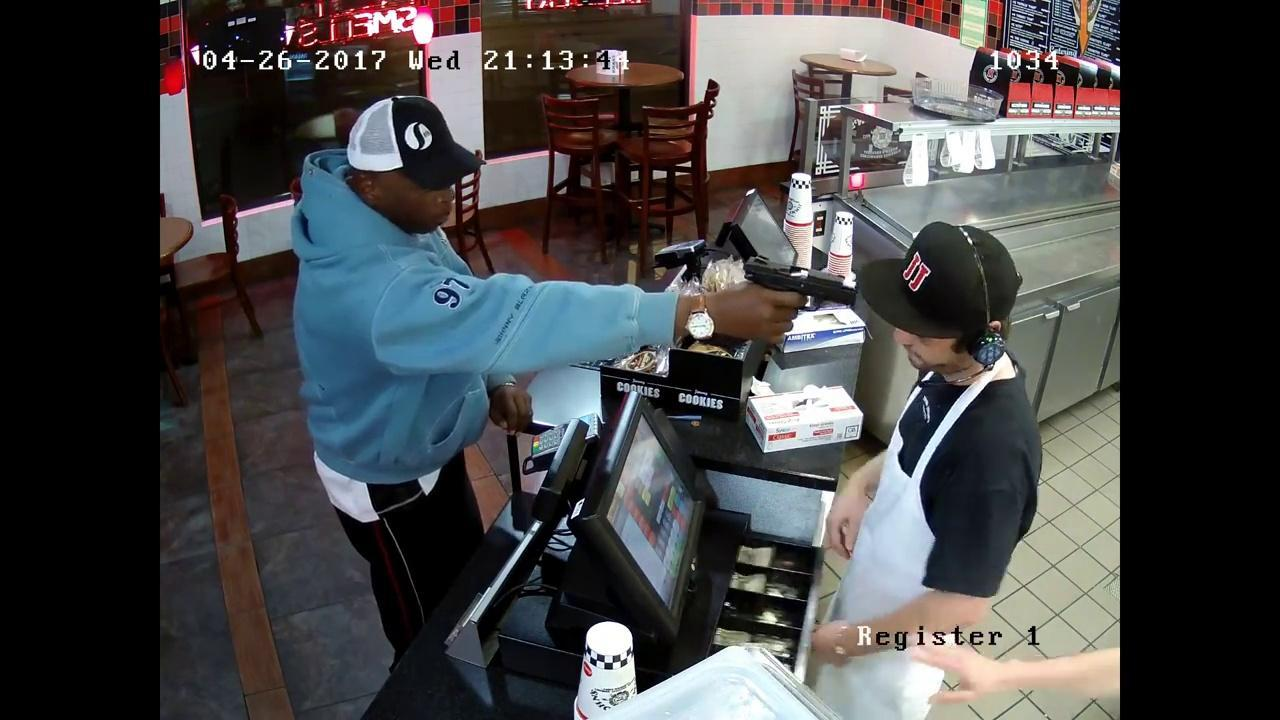Guns: (736, 246, 864, 331)
